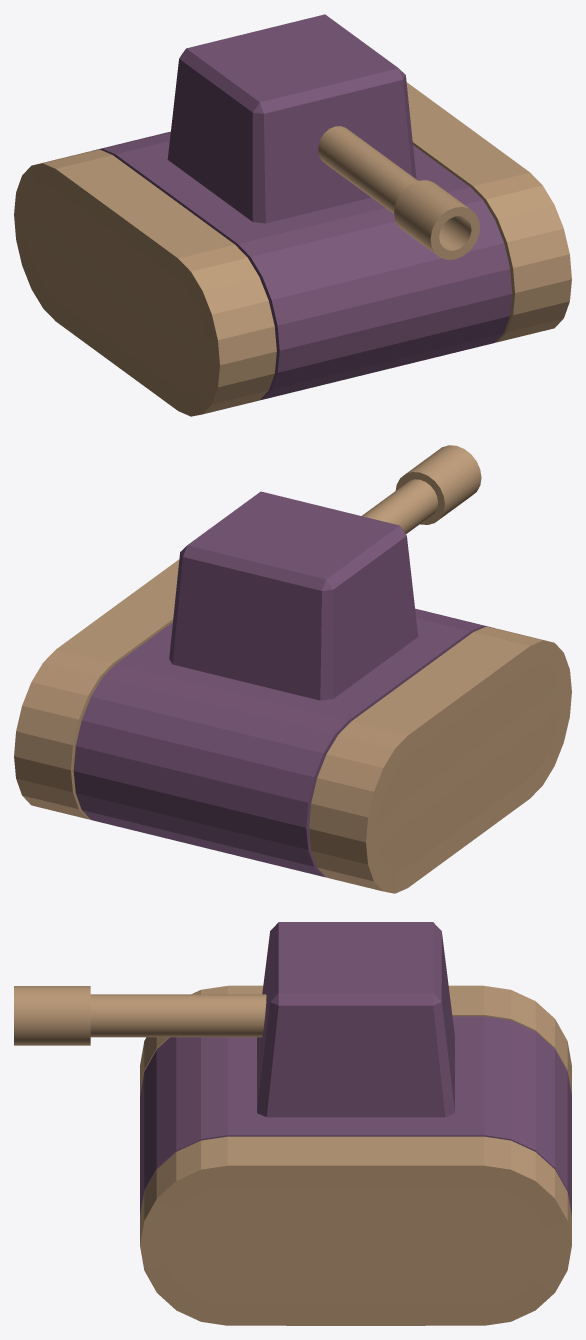
The model's file is EnemyTank.fbx.
3 views of the same model, one above another, from view 1: azimuth 30°, elevation 25°; view 2: azimuth 150°, elevation 25°; view 3: azimuth 270°, elevation 25° (orthographic). The views are drawn at different scales.
Parts seen in each view (by area): view 1: base, head, nozzle; view 2: base, head, nozzle; view 3: base, head, nozzle.
Part boxes in pixels (left/top/right/bottom): base: left=14, top=82, right=571, bottom=416; head: left=167, top=14, right=416, bottom=223; nozzle: left=318, top=126, right=479, bottom=259; base: left=14, top=559, right=571, bottom=893; head: left=169, top=491, right=418, bottom=700; nozzle: left=362, top=445, right=481, bottom=533; base: left=140, top=985, right=571, bottom=1325; head: left=257, top=922, right=454, bottom=1117; nozzle: left=14, top=986, right=266, bottom=1045.
Size of the model in its own units: 2.66 by 1.91 by 3.47.
